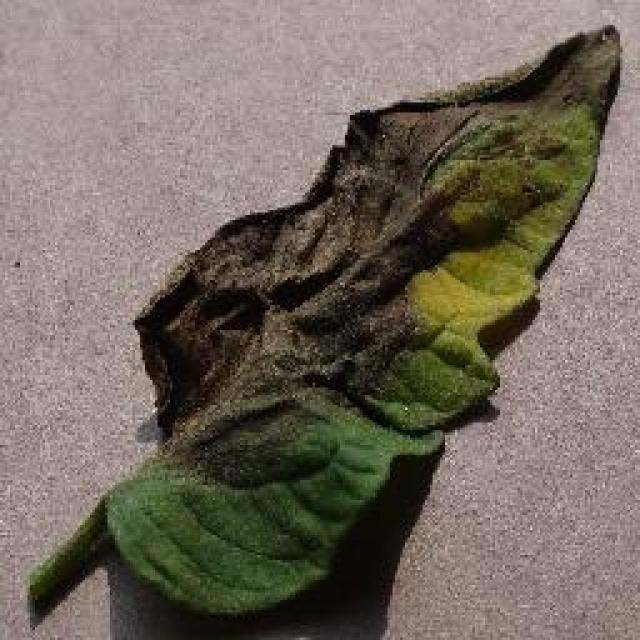leaf blight: (29, 25, 623, 621)
